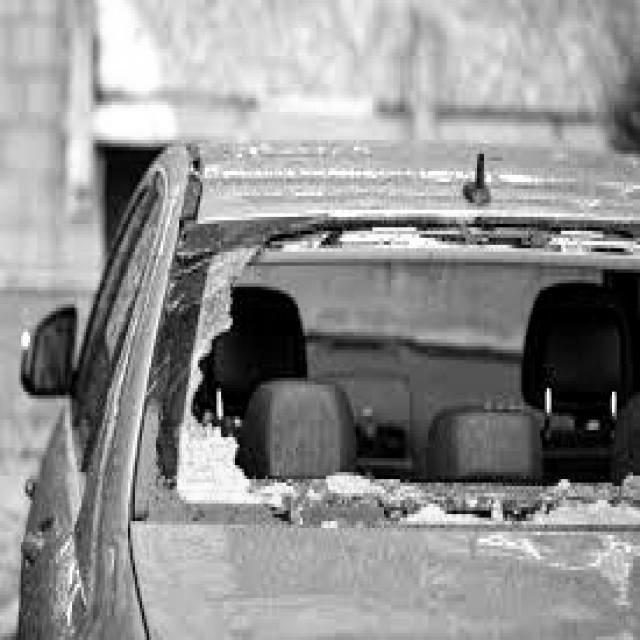Rear-windscreen-Damage: (95, 186, 637, 535)
